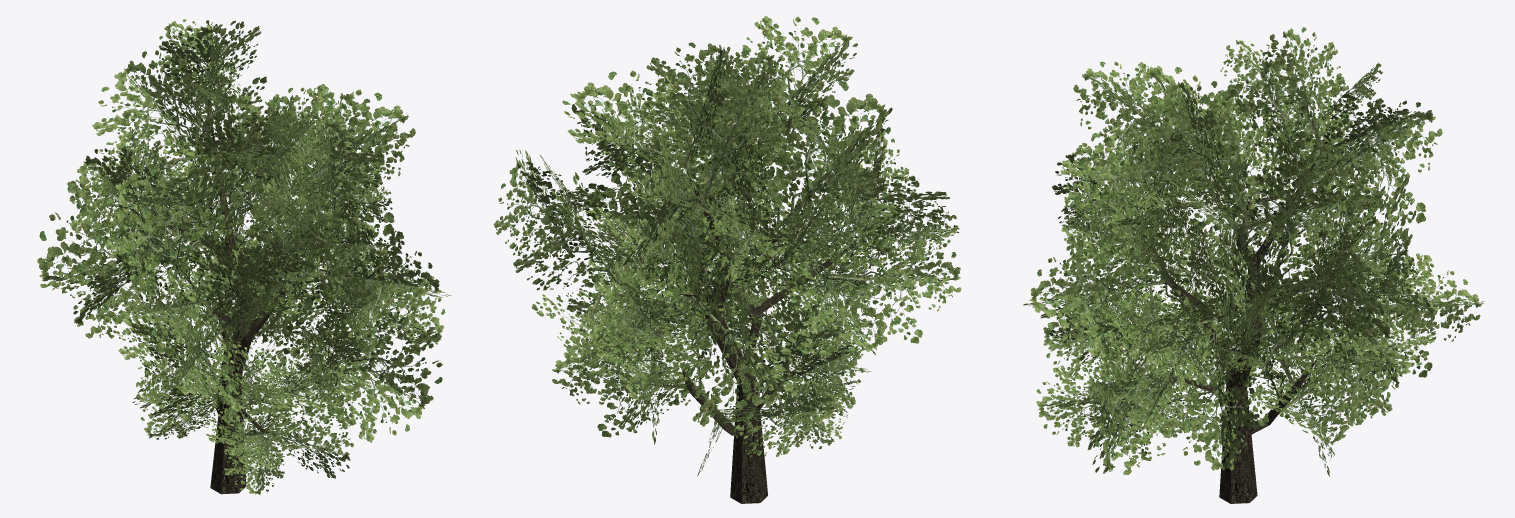
File: tree_f.FBX
3 views of the same model, side by side, from view 1: azimuth 30°, elevation 25°; view 2: azimuth 150°, elevation 25°; view 3: azimuth 270°, elevation 25° (orthographic). The views are drawn at different scales.
Visible parts, largest first — view 1: tree_f; view 2: tree_f; view 3: tree_f.
Boxes of the visible parts, bbox=[...] form: tree_f: bbox=[37, 19, 450, 494]; tree_f: bbox=[493, 16, 961, 503]; tree_f: bbox=[1023, 27, 1483, 503].
Size of the model in its own units: 24.52 by 28.77 by 26.44.
2 materials, 2 textured.
